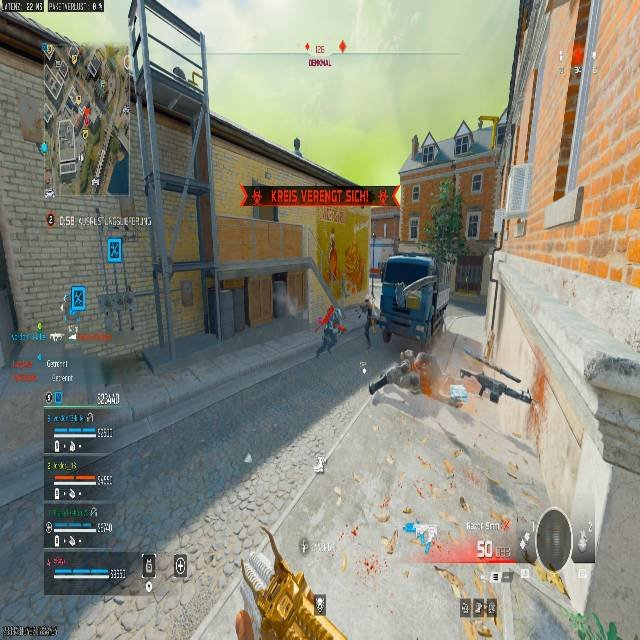head: (327, 305, 335, 314)
player: (314, 305, 345, 358), (361, 294, 382, 349)
